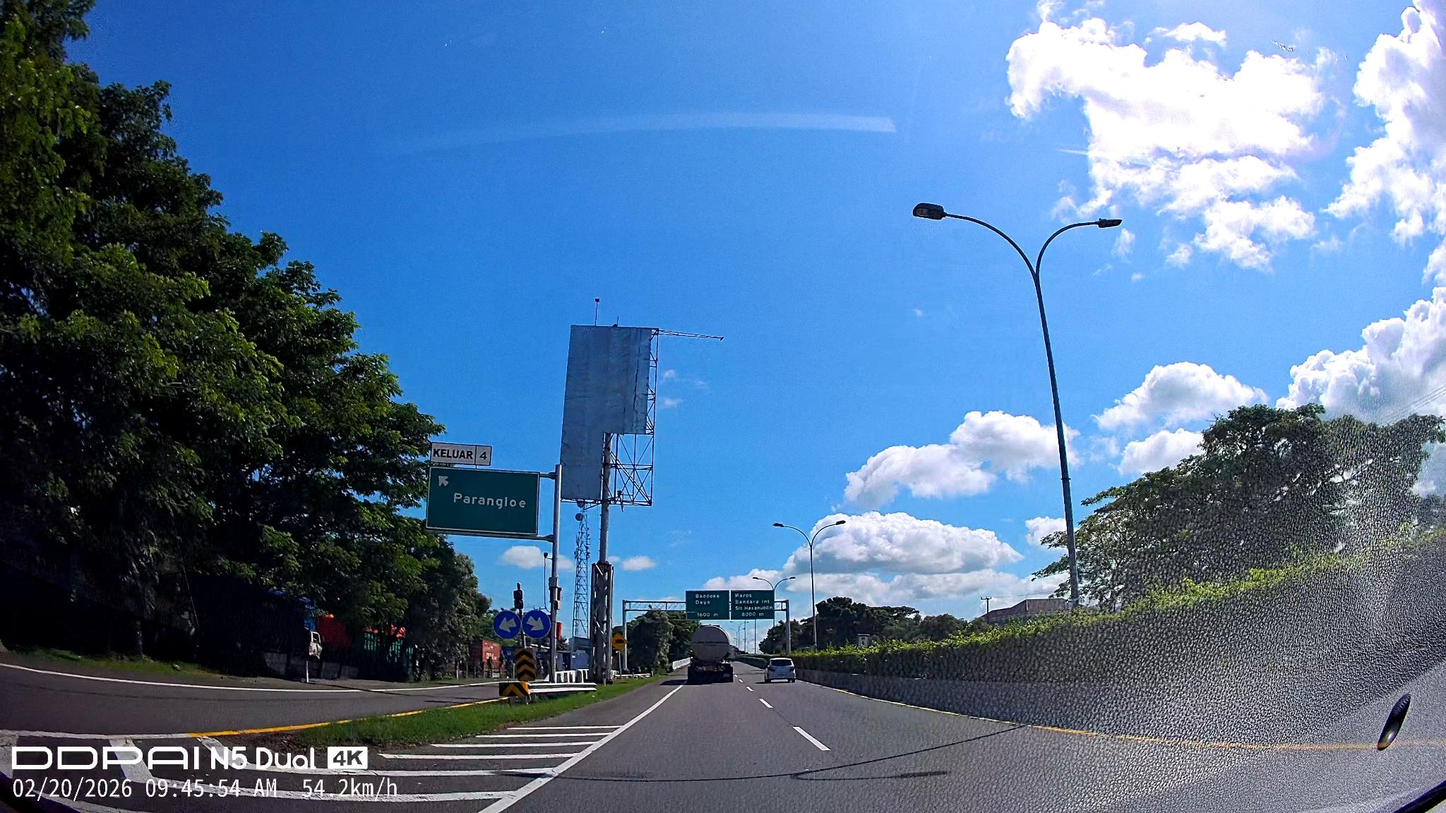rambu_teks: (423, 464, 542, 536)
